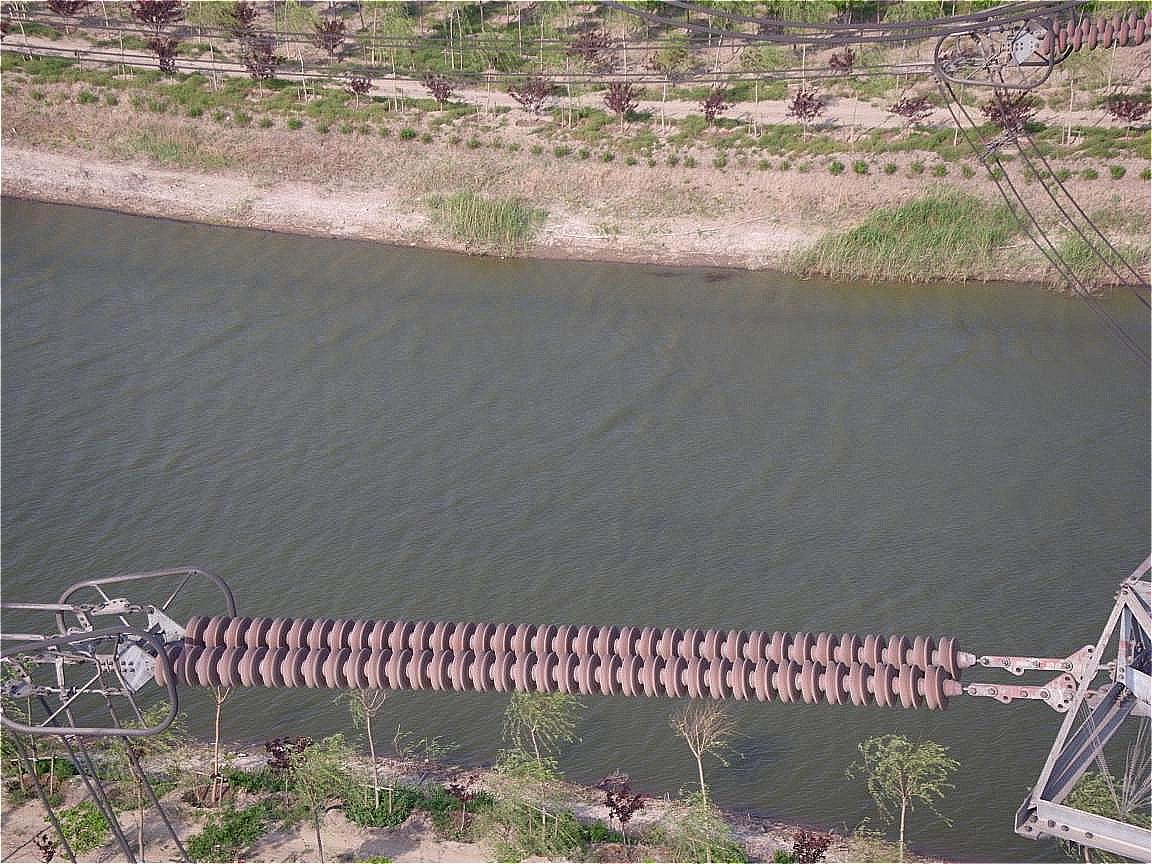insultor2: (131, 591, 1000, 731)
